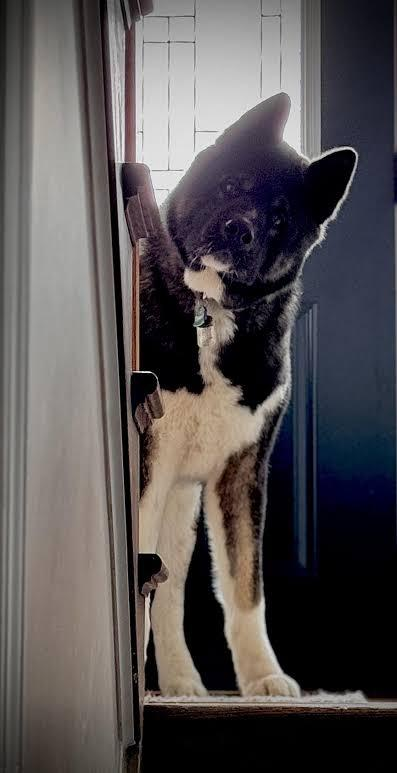adult_dog: (133, 90, 360, 702)
